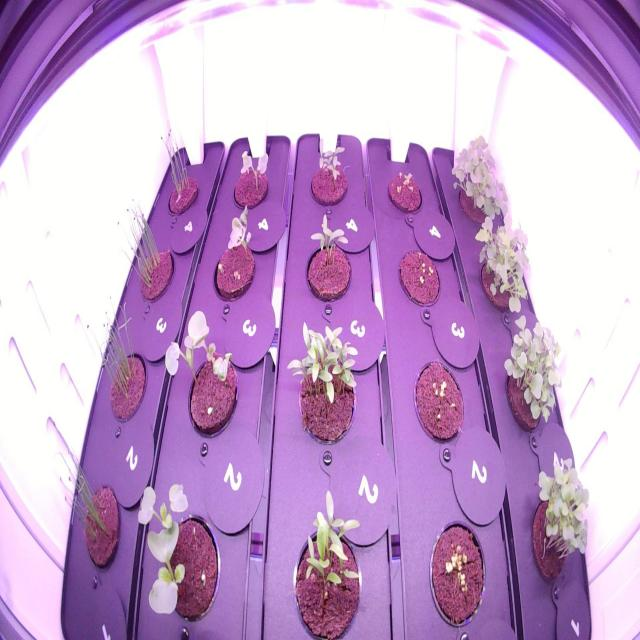germination: (283, 486, 368, 638), (282, 313, 366, 455), (52, 434, 130, 583), (84, 289, 148, 428), (424, 512, 491, 634), (116, 192, 178, 304), (409, 356, 469, 452), (299, 204, 354, 308), (152, 114, 203, 220), (207, 202, 258, 304), (305, 128, 354, 212), (394, 241, 444, 316), (226, 143, 274, 220), (383, 160, 425, 223)
